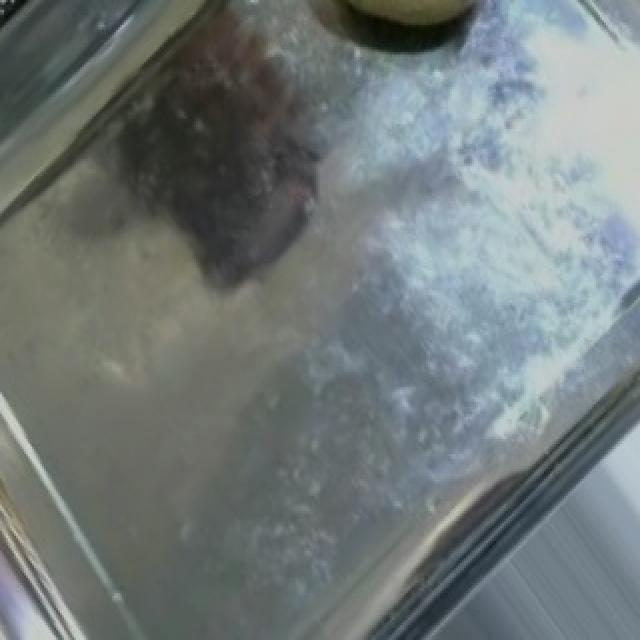Fruit: (294, 0, 522, 64)
